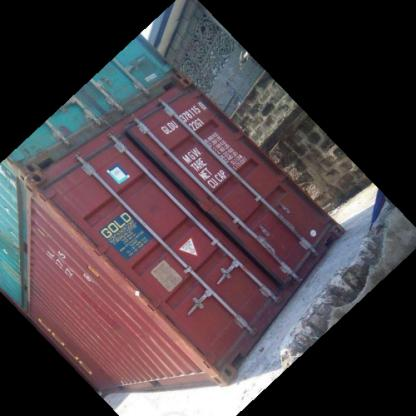Damage: (76, 233, 152, 294), (148, 298, 213, 366), (22, 180, 88, 235)
